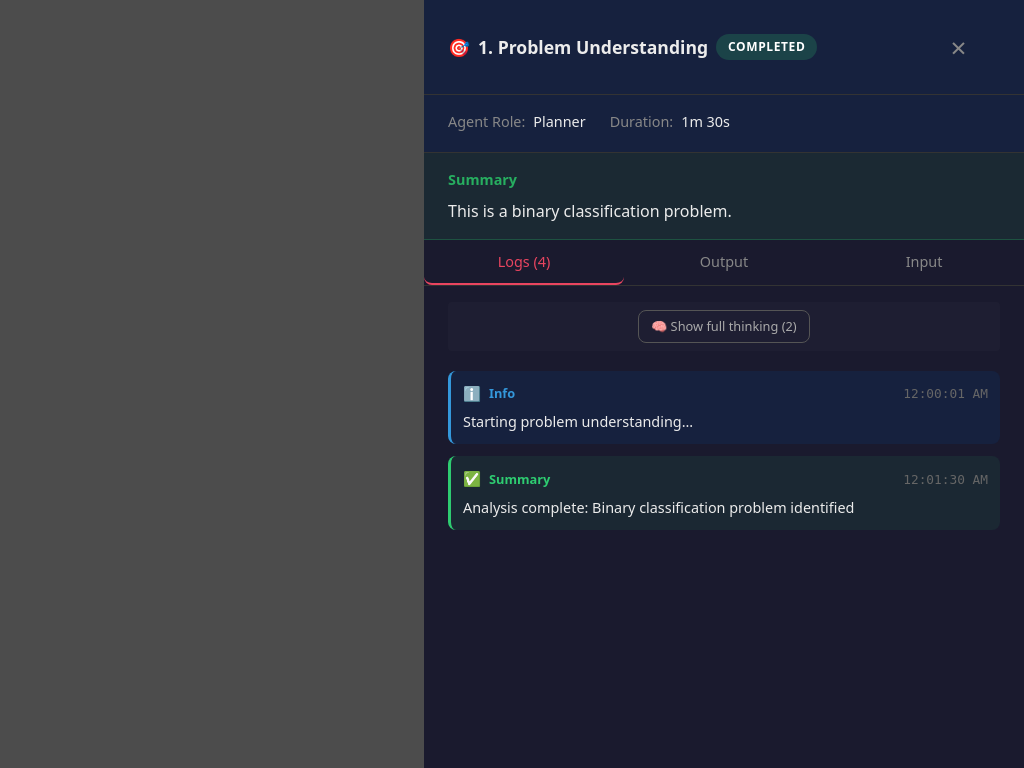
Test case: AgentStepDrawer › switches to Output tab and shows structured output
This screenshot has width=1024, height=768.
Click the button "Output": [724, 262] box [624,240,824,285]
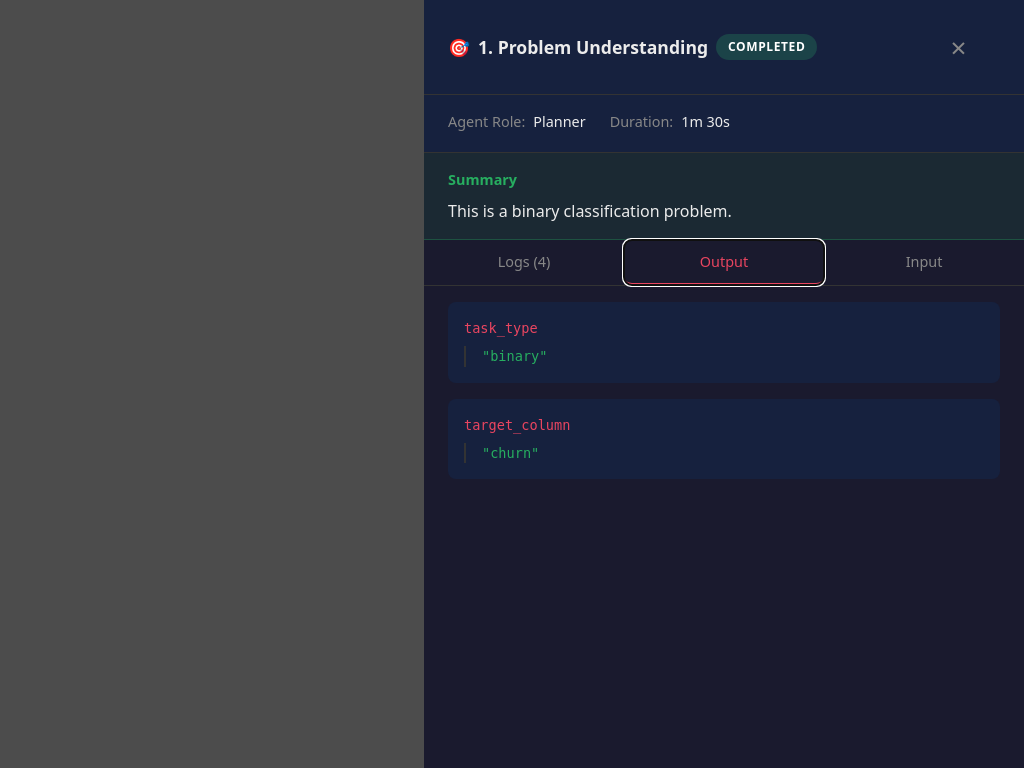
Now the text "task_type" is shown, box [464,320,538,336]
Now the text "target_column" is shown, box [464,417,570,433]
